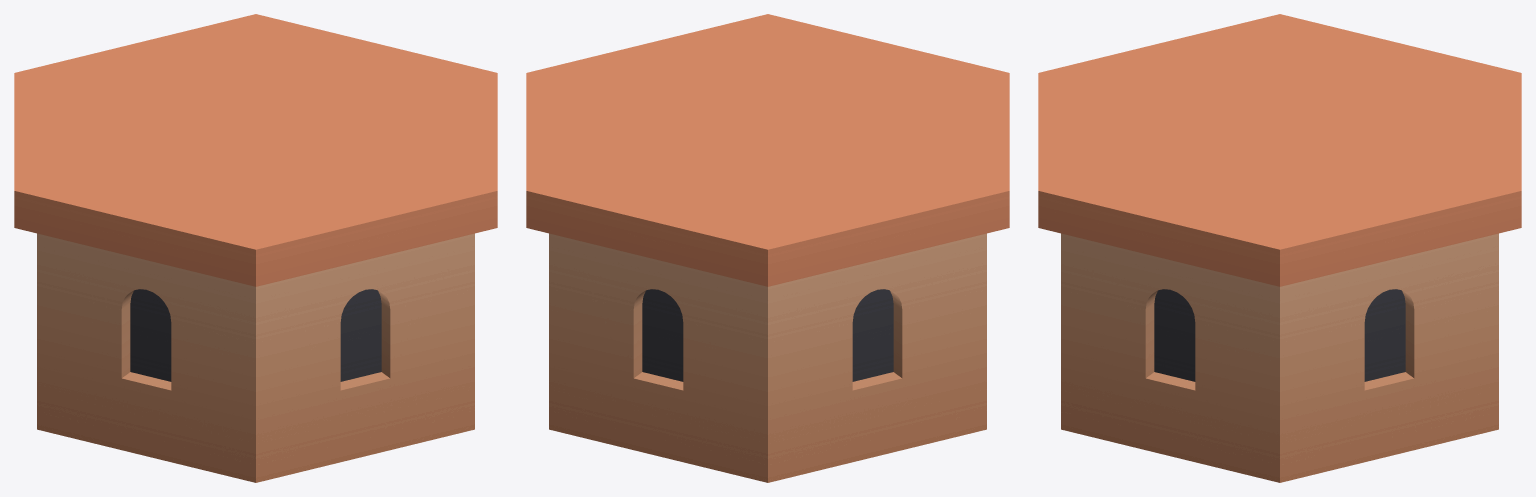
File: tower-hexagon-mid.glb
3 views of the same model, side by side, from view 1: azimuth 30°, elevation 25°; view 2: azimuth 150°, elevation 25°; view 3: azimuth 270°, elevation 25° (orthographic).
Parts seen in each view (by area): view 1: tower-hexagon-mid; view 2: tower-hexagon-mid; view 3: tower-hexagon-mid.
Boxes of the visible parts, bbox=[...] form: tower-hexagon-mid: bbox=[14, 14, 497, 482]; tower-hexagon-mid: bbox=[526, 14, 1009, 482]; tower-hexagon-mid: bbox=[1038, 14, 1521, 482].
Bounding box in the file's own units: 0.9524 × 0.46 × 0.8248.
1 material, 1 textured.
